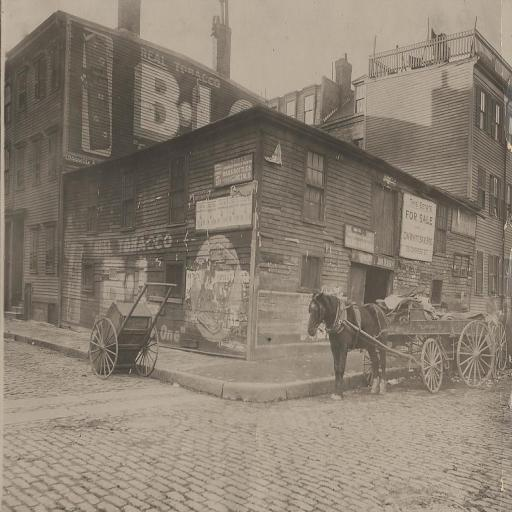Horse: (308, 290, 390, 401)
